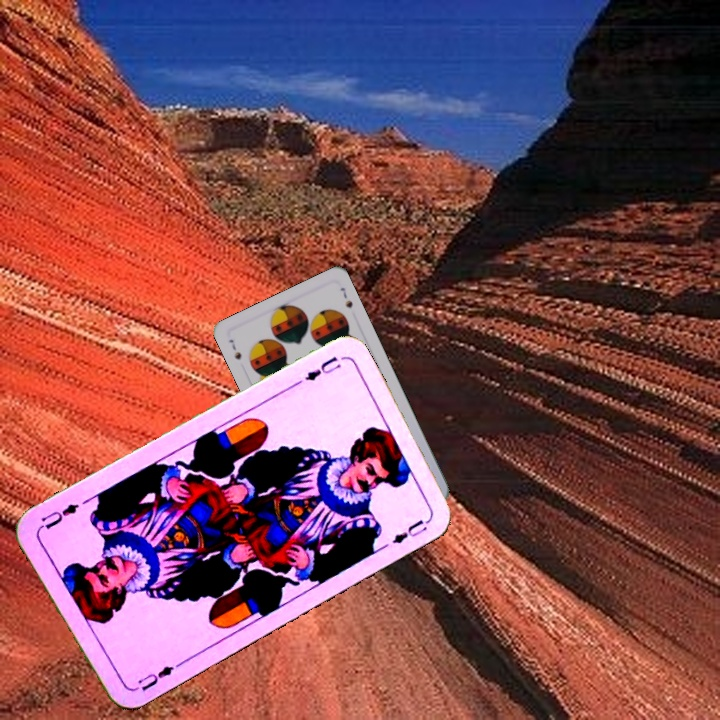EU: (129, 659, 184, 694), (300, 352, 344, 384)
S7: (225, 335, 244, 362)
